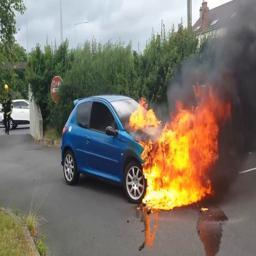fire: (136, 82, 232, 210), (129, 98, 160, 128)
